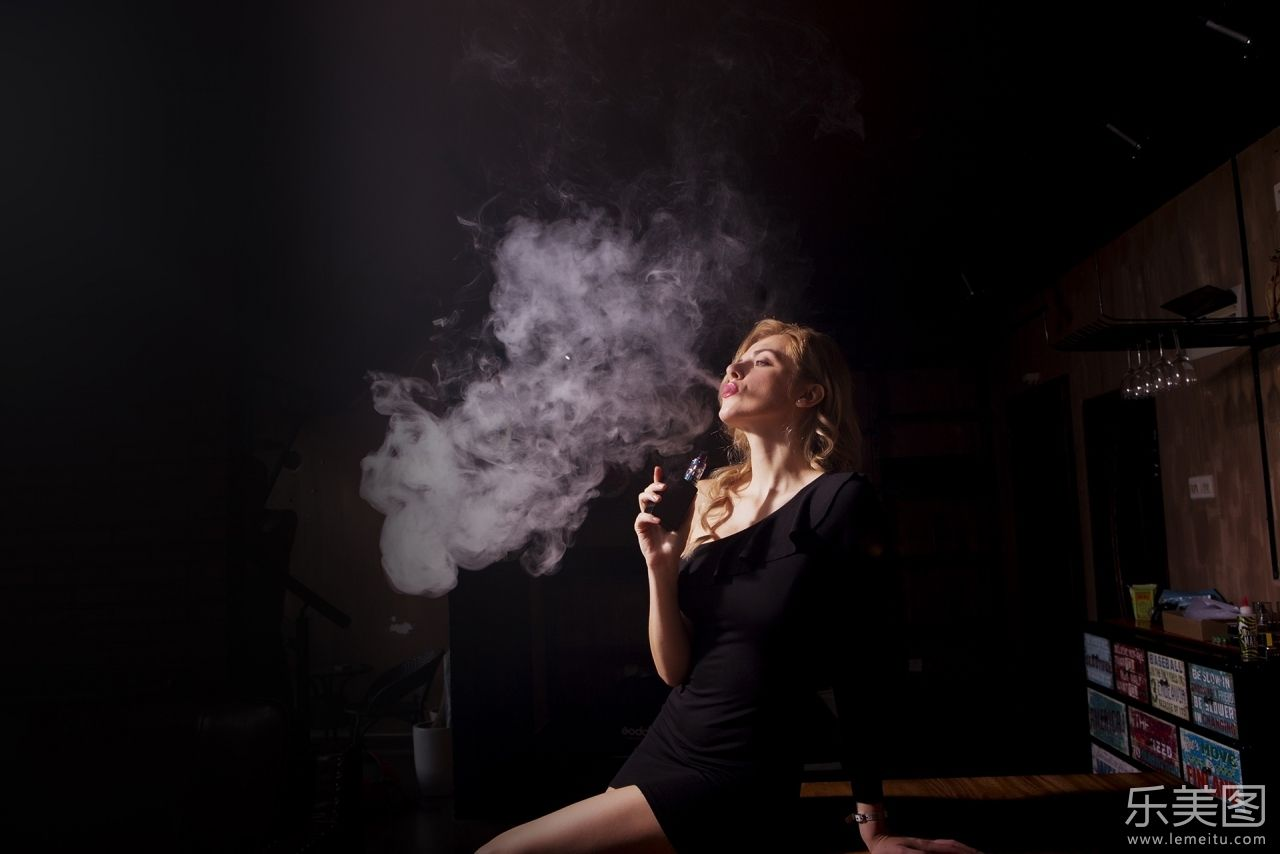yanwu: (357, 212, 733, 602)
